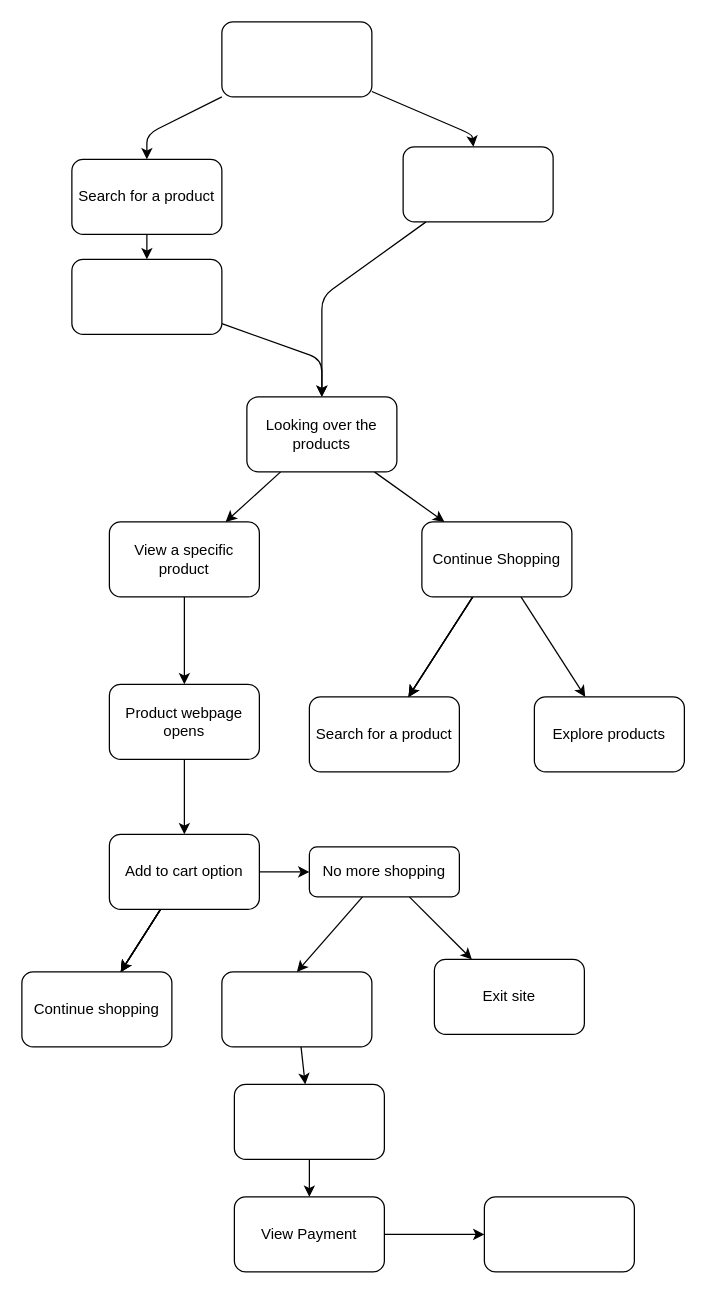
This 706x1294 diagram has some shape labels left out. The box of each missing label's shape, as (x1, y1, x2, y2) in pixels:
Checkout: (221, 971, 372, 1047)
Explore products on the home page: (402, 146, 553, 222)
Order Confirmation: (483, 1196, 634, 1272)
Provide input for search: (71, 258, 222, 334)
User enters website: (221, 21, 372, 97)
View Cart: (233, 1083, 384, 1159)
